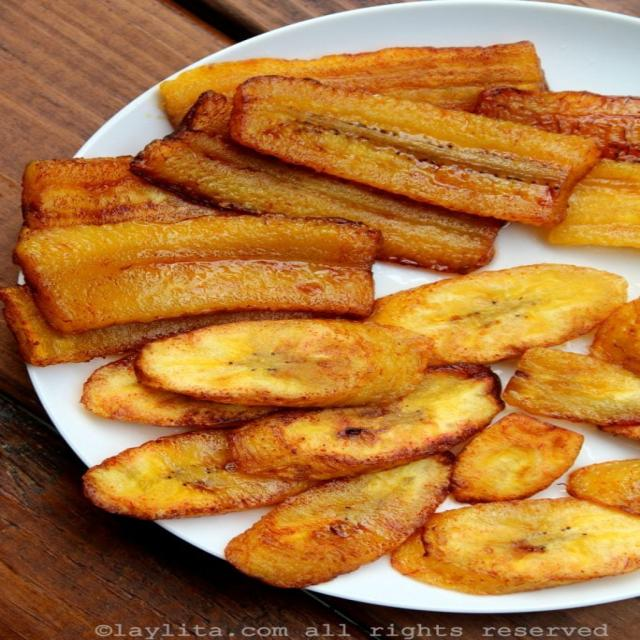platano: (217, 69, 605, 236), (17, 217, 385, 323), (130, 316, 433, 411)
